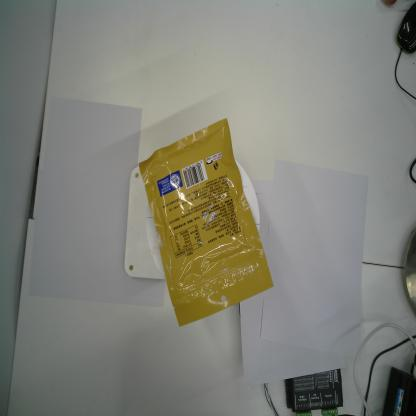Dried Fruit: (138, 117, 274, 327)
